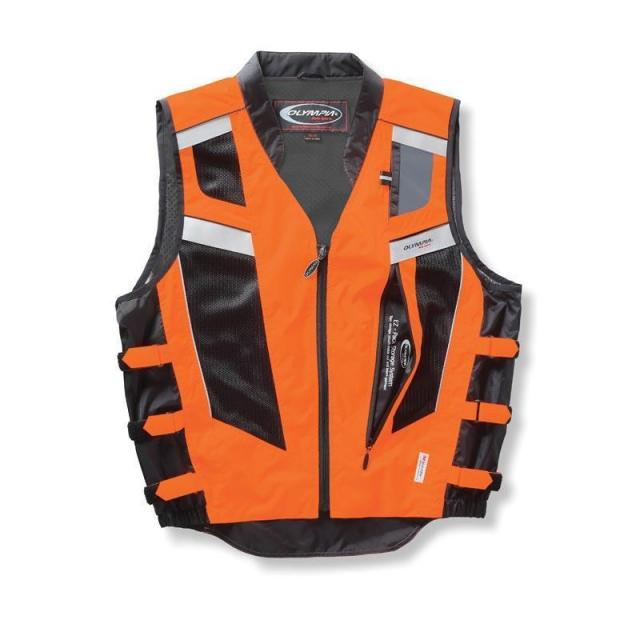vest: (114, 49, 526, 558)
